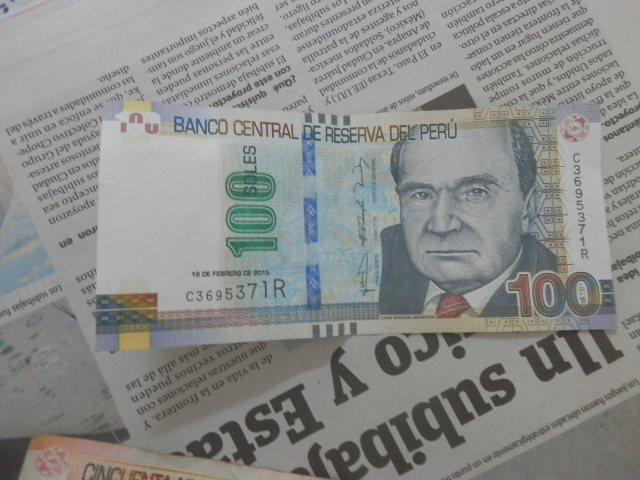B100: (90, 102, 617, 344)
